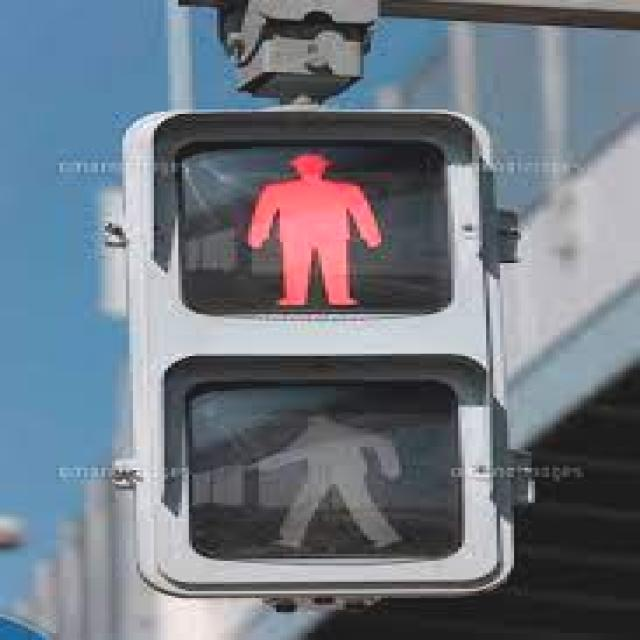trafficlight: (105, 105, 532, 593)
